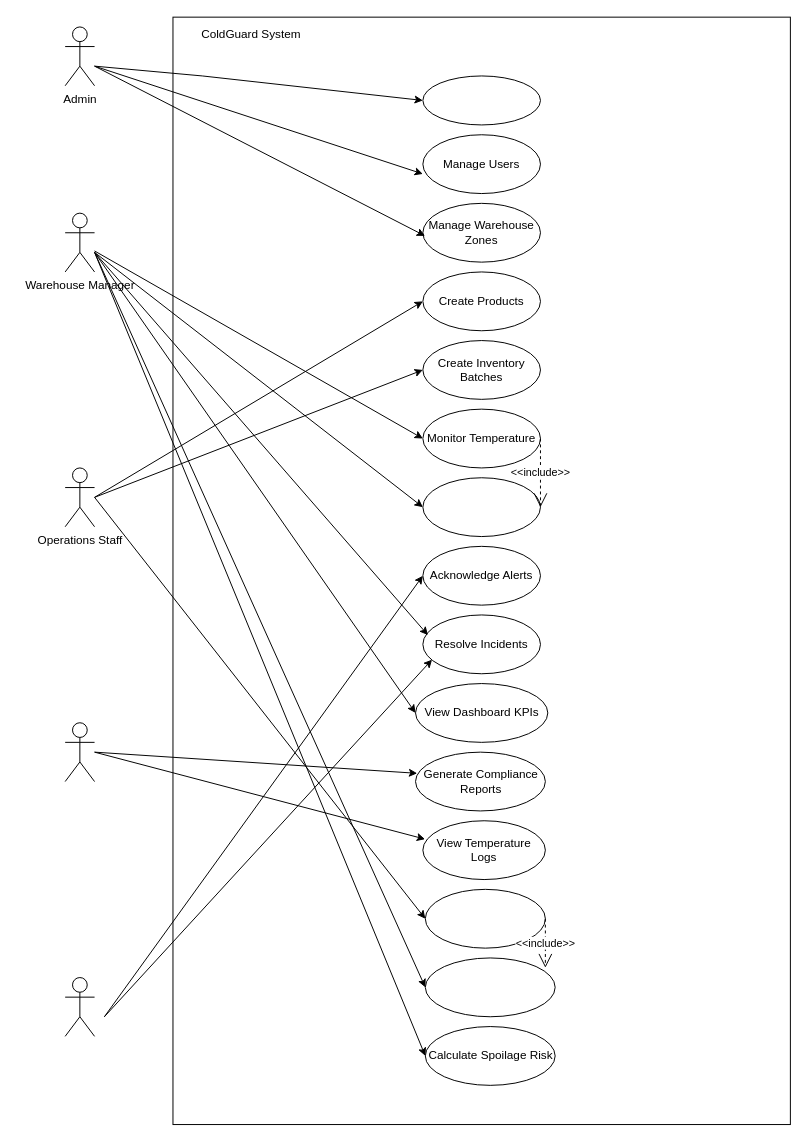
This 808x1142 diagram has some shape labels left out. The box of each missing label's shape, as (x1, y1, x2, y2) in pixels:
Compliance Officer: (64, 722, 95, 782)
Dispatch Inventory: (424, 888, 545, 948)
Generate Alerts: (422, 477, 540, 537)
Generate FEFO Recommendations: (424, 957, 555, 1017)
Login: (422, 75, 540, 125)
Maintenance Technician: (64, 977, 95, 1036)
